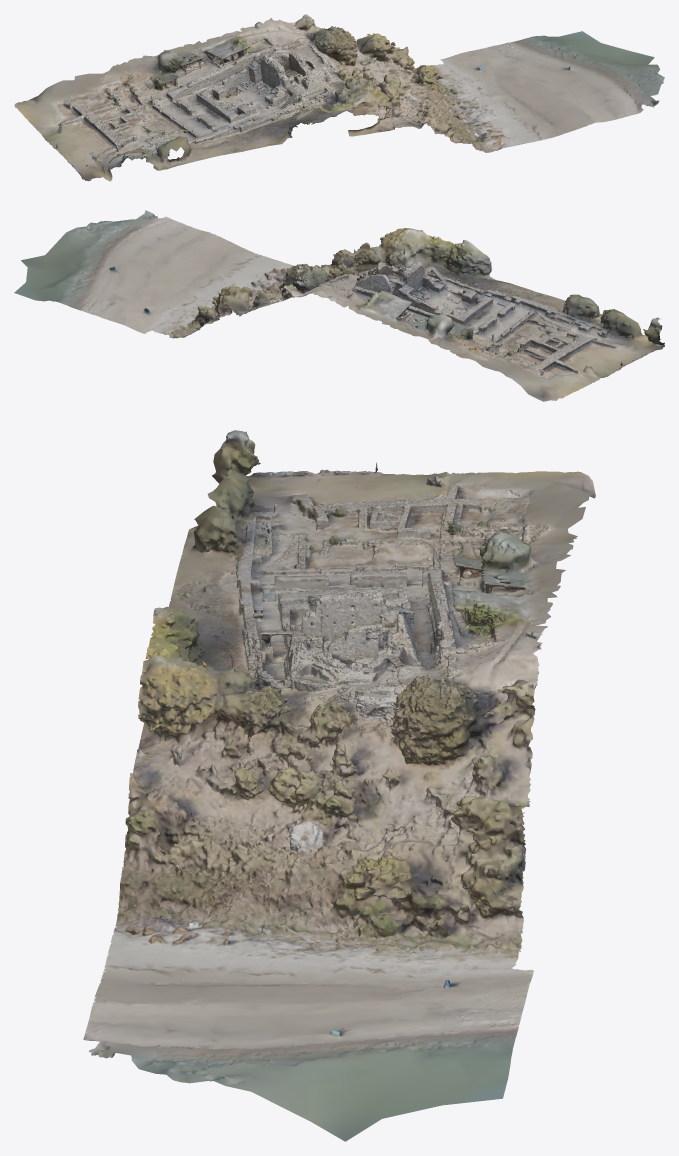
Rendered from pydna_model_app.glb.
3 views of the same model, one above another, from view 1: azimuth 30°, elevation 25°; view 2: azimuth 150°, elevation 25°; view 3: azimuth 270°, elevation 25° (orthographic). The views are drawn at different scales.
Size of the model in its own units: 1.3 by 0.1851 by 0.4827.
